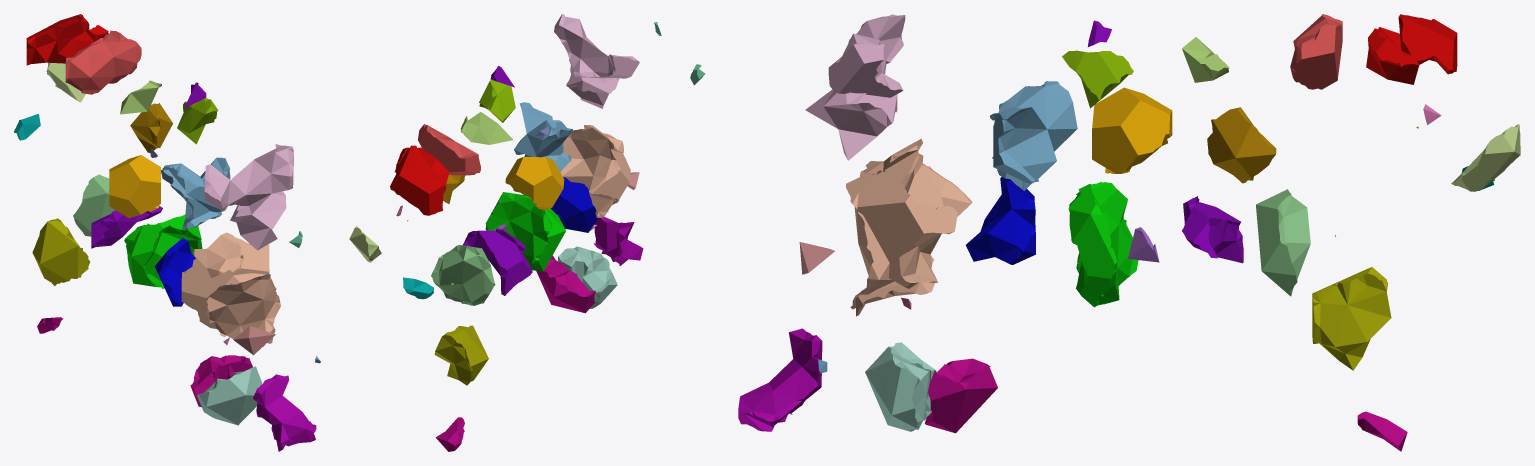
File: fractured_45_30pcs_transformed.glb
3 views of the same model, side by side, from view 1: azimuth 30°, elevation 25°; view 2: azimuth 150°, elevation 25°; view 3: azimuth 270°, elevation 25° (orthographic). The views are drawn at different scales.
Parts seen in each view (by area): view 1: piece_7.obj, piece_6.obj, piece_1.obj, piece_8.obj, piece_0.obj, piece_12.obj, piece_9.obj, piece_11.obj, piece_4.obj, piece_2.obj, piece_10.obj, piece_3.obj (+8 smaller); view 2: piece_7.obj, piece_6.obj, piece_8.obj, piece_3.obj, piece_9.obj, piece_16.obj, piece_0.obj, piece_2.obj, piece_11.obj, piece_15.obj, piece_4.obj, piece_1.obj (+8 smaller); view 3: piece_7.obj, piece_6.obj, piece_2.obj, piece_8.obj, piece_11.obj, piece_0.obj, piece_9.obj, piece_12.obj, piece_4.obj, piece_3.obj, piece_10.obj, piece_15.obj (+7 smaller).
Boxes of the visible parts, <box> form: piece_7.obj: <box>181,232,280,346</box>; piece_6.obj: <box>204,144,293,250</box>; piece_1.obj: <box>65,30,141,94</box>; piece_8.obj: <box>124,214,202,288</box>; piece_0.obj: <box>109,155,160,218</box>; piece_12.obj: <box>253,374,316,451</box>; piece_9.obj: <box>26,14,108,65</box>; piece_11.obj: <box>32,218,89,285</box>; piece_4.obj: <box>197,366,262,425</box>; piece_2.obj: <box>161,157,230,229</box>; piece_10.obj: <box>154,238,195,306</box>; piece_3.obj: <box>73,174,114,236</box>; piece_7.obj: <box>560,125,630,217</box>; piece_6.obj: <box>554,14,639,108</box>; piece_8.obj: <box>485,192,566,271</box>; piece_3.obj: <box>431,245,495,305</box>; piece_9.obj: <box>390,145,449,215</box>; piece_16.obj: <box>463,228,532,295</box>; piece_0.obj: <box>505,157,564,210</box>; piece_2.obj: <box>514,102,572,171</box>; piece_11.obj: <box>434,325,488,385</box>; piece_15.obj: <box>536,255,595,313</box>; piece_4.obj: <box>558,246,617,308</box>; piece_1.obj: <box>418,124,480,175</box>; piece_7.obj: <box>846,138,972,316</box>; piece_6.obj: <box>805,14,905,160</box>; piece_2.obj: <box>990,81,1077,190</box>; piece_8.obj: <box>1068,182,1138,307</box>; piece_11.obj: <box>1312,267,1391,370</box>; piece_0.obj: <box>1092,87,1172,173</box>; piece_9.obj: <box>1366,14,1457,84</box>; piece_12.obj: <box>738,328,822,431</box>; piece_4.obj: <box>865,342,936,431</box>; piece_3.obj: <box>1256,189,1310,296</box>; piece_10.obj: <box>966,177,1035,264</box>; piece_15.obj: <box>925,358,997,433</box>.
Bounding box in the file's own units: 0.5389 × 1.48 × 2.38.
